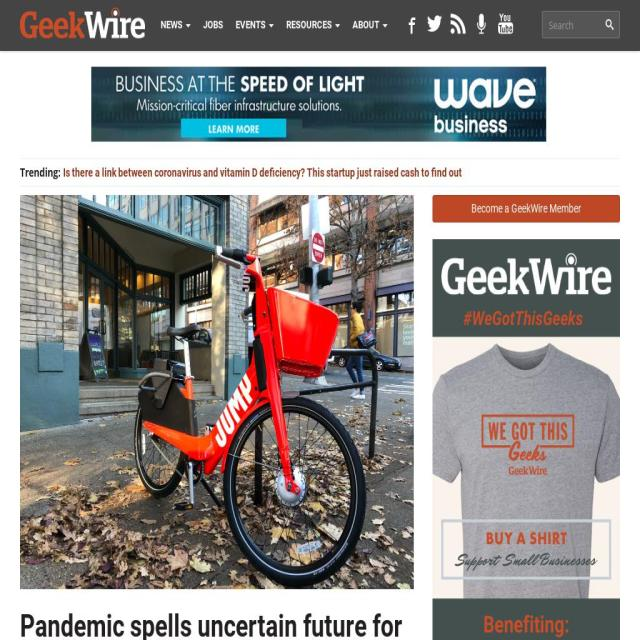button: (20, 195, 414, 589), (432, 195, 620, 223), (280, 0, 346, 50), (229, 0, 280, 50), (346, 0, 394, 50), (154, 0, 197, 50), (197, 0, 229, 50)
field: (542, 11, 620, 38)
iframe: (432, 239, 620, 640), (91, 66, 546, 142)
image: (20, 195, 414, 589), (20, 7, 145, 38)
link: (19, 607, 402, 640), (63, 166, 462, 179)
text: (20, 164, 63, 180), (286, 18, 334, 31), (235, 18, 268, 31), (352, 18, 382, 31), (160, 18, 184, 31)
